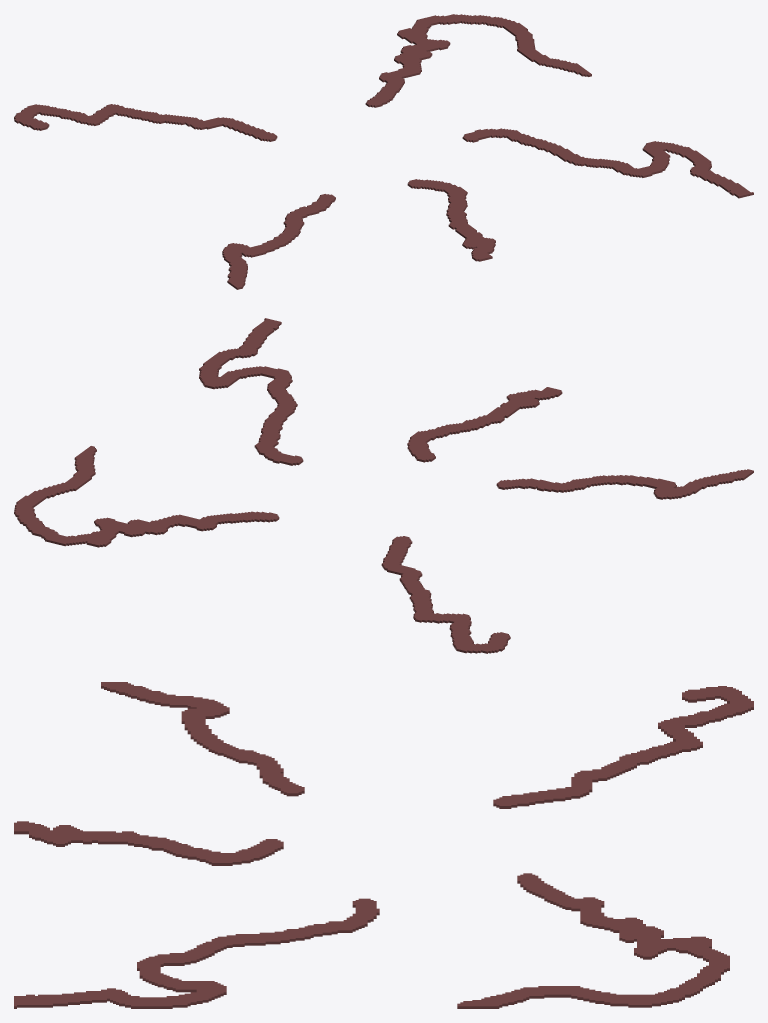
Rendered from ground.obj.
3 renders of one model, top to bottom at view 1: azimuth 30°, elevation 25°; view 2: azimuth 150°, elevation 25°; view 3: azimuth 270°, elevation 25°, orthographic. The views are drawn at different scales.
Size of the model in its own units: 25.6 by 0.1 by 24.7.
Materials: 1 (1 with a texture image).
